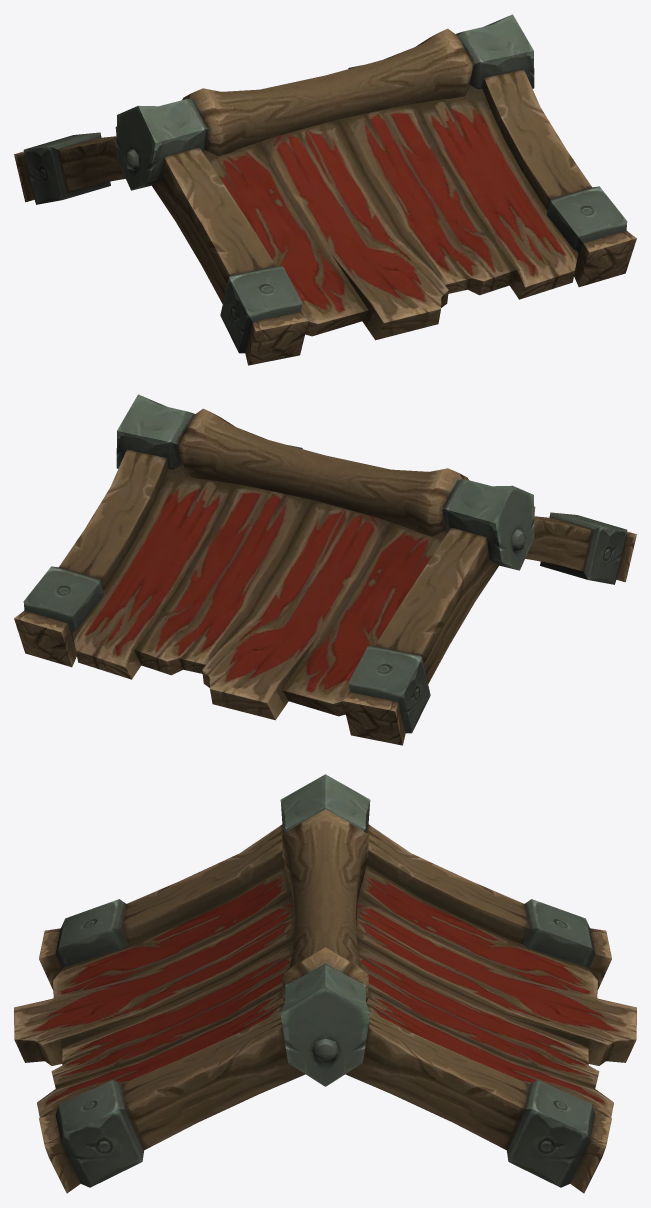
The picture shows the model from 3 angles, top to bottom: view 1: azimuth 30°, elevation 25°; view 2: azimuth 150°, elevation 25°; view 3: azimuth 270°, elevation 25°; orthographic projection. The views are drawn at different scales.
Size of the model in its own units: 2.59 by 1.11 by 3.01.
Materials: 1 (1 with a texture image).
